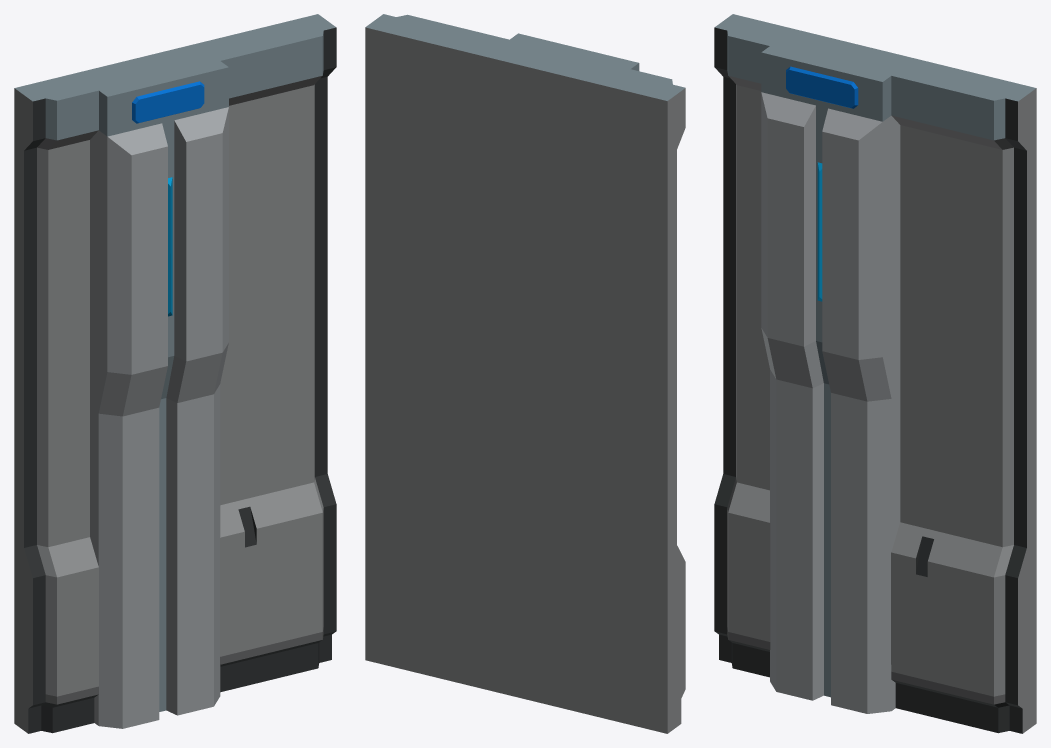
Rendered from Wall_type_B_019.fbx.
3 renders of one model, left to right at view 1: azimuth 30°, elevation 25°; view 2: azimuth 150°, elevation 25°; view 3: azimuth 330°, elevation 25°, orthographic.
Parts seen in each view (by area): view 1: Wall_type_B_019; view 2: Wall_type_B_019; view 3: Wall_type_B_019.
Boxes of the visible parts, x1,y1,x2,y2 form: Wall_type_B_019: [14, 14, 336, 733]; Wall_type_B_019: [365, 14, 685, 733]; Wall_type_B_019: [714, 14, 1036, 733].
Bounding box in the file's own units: 200 × 46.98 × 400.
